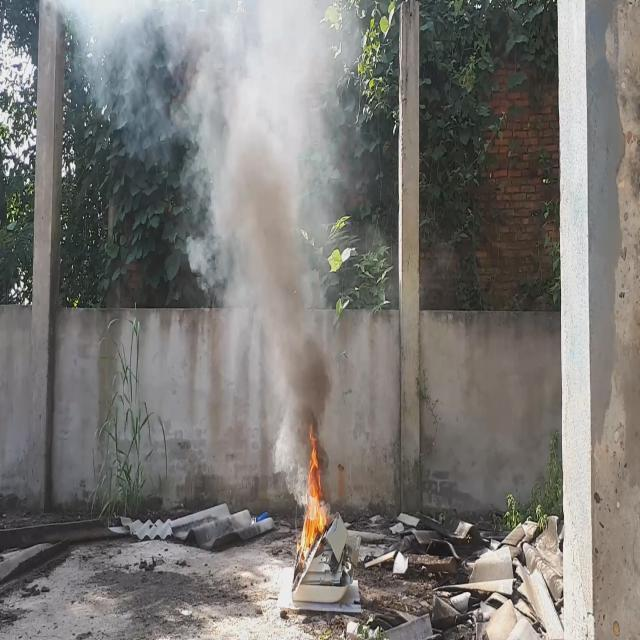Fire: (296, 416, 330, 566)
Smoke: (56, 0, 362, 475)
